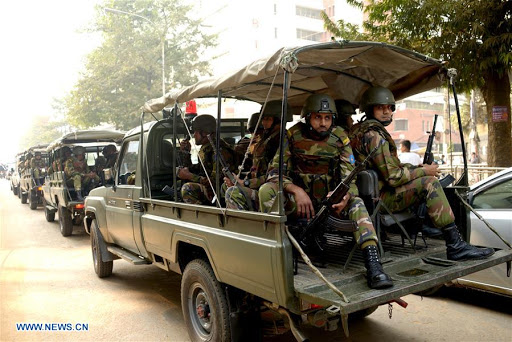army vehicle: (84, 39, 511, 340), (42, 128, 125, 237), (19, 142, 49, 209), (10, 151, 21, 196)
